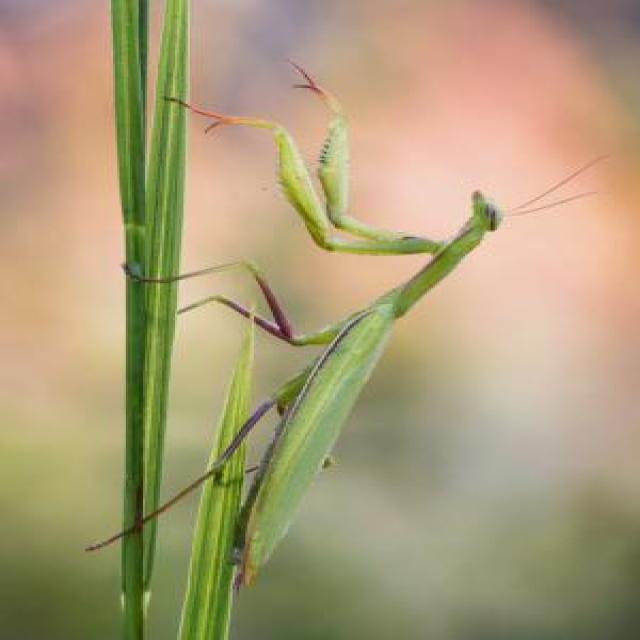antennae: (502, 154, 605, 212), (498, 194, 596, 218)
body: (228, 190, 506, 572)
insect: (86, 56, 610, 584)
legs: (153, 93, 439, 258), (96, 366, 331, 552), (285, 59, 447, 253), (118, 260, 359, 340), (172, 293, 350, 347)
mouthpart: (466, 188, 486, 202)
wings: (233, 294, 408, 571)
